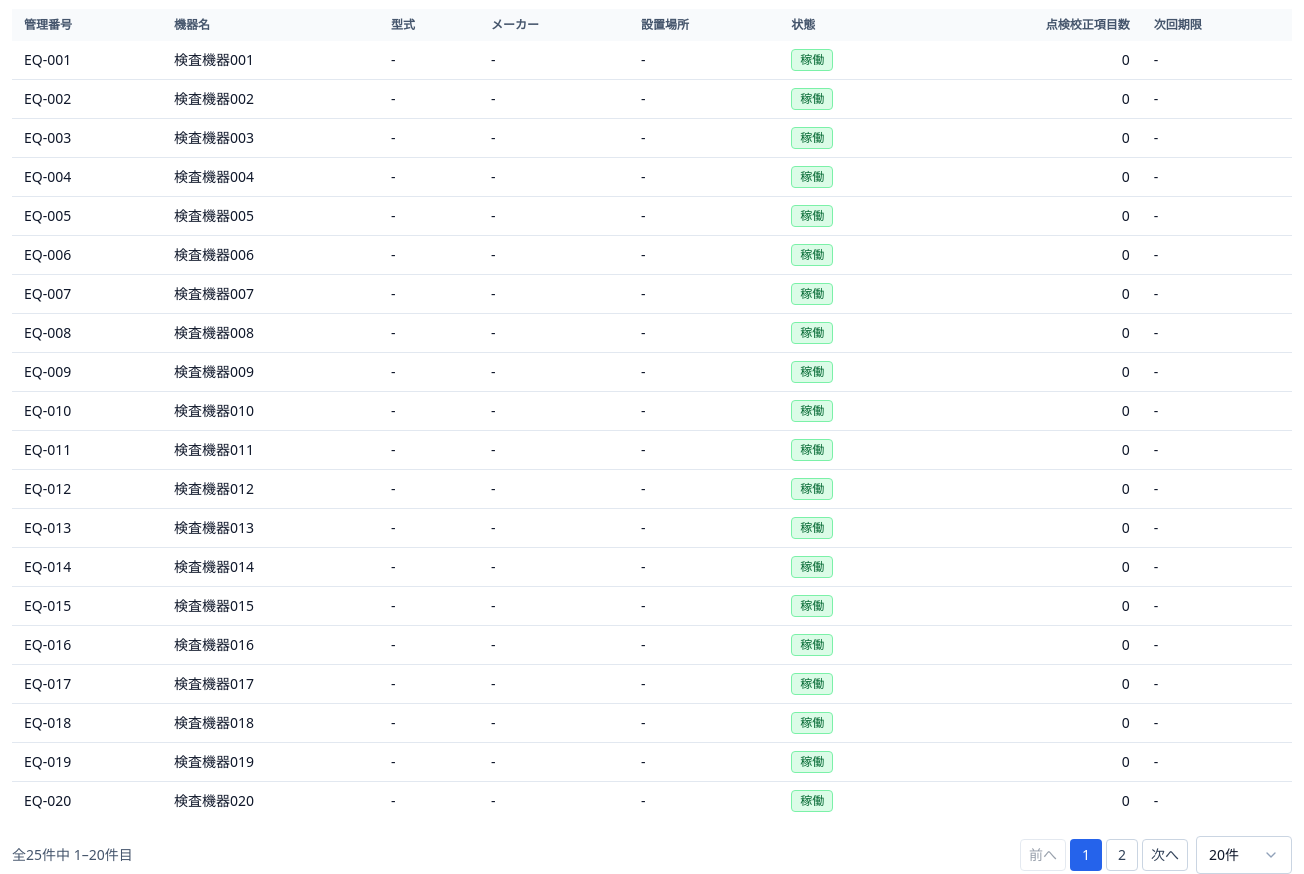
Test: EquipmentList: ページネーション › 「次へ」クリックで表示行が切り替わる
(page scrolled)
Click the button "次へ". click: (1165, 855)
box: [1142,839,1188,871]
(page scrolled)
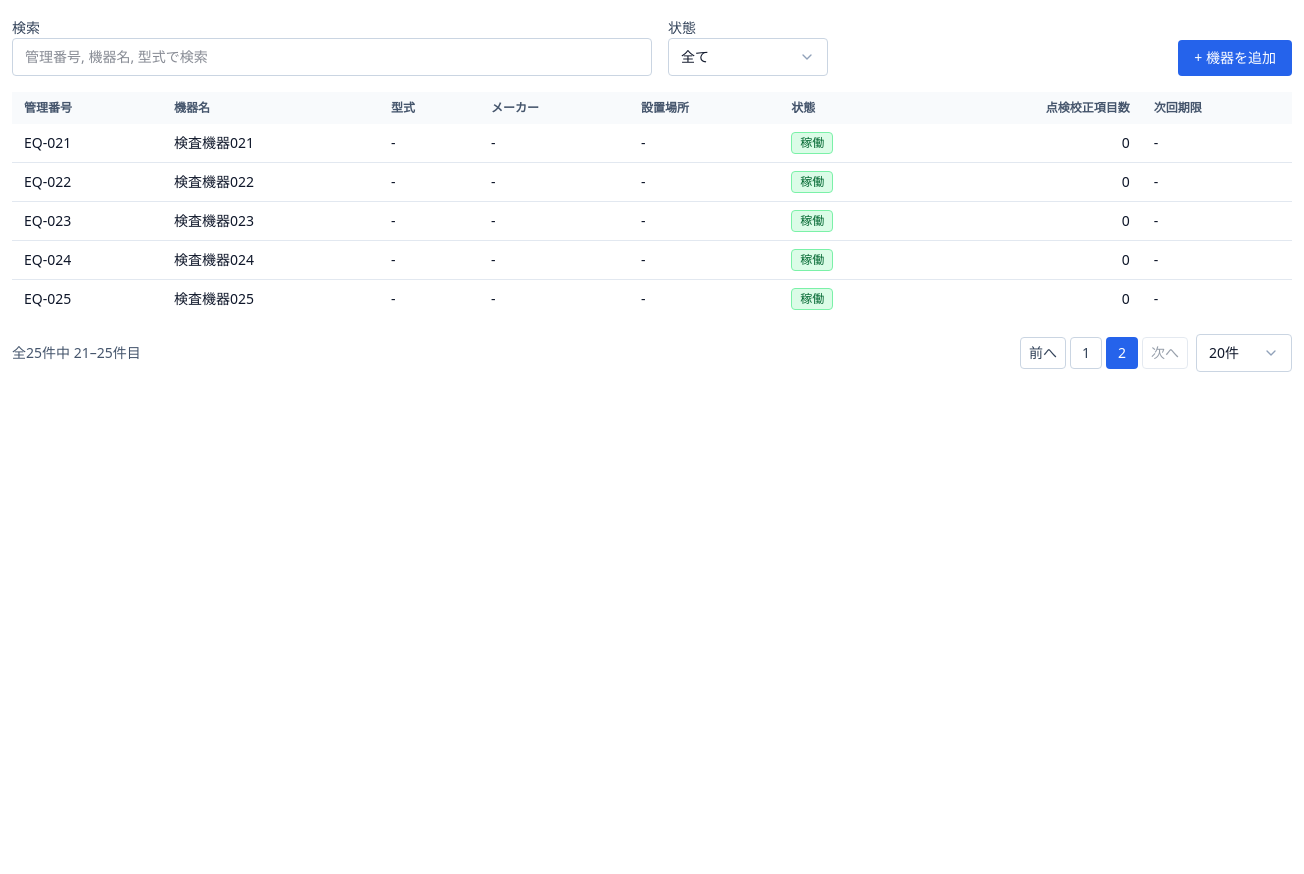
Expected: the text "EQ-001" is gone
Expected: the text "EQ-021" is shown, [24,133,71,152]
